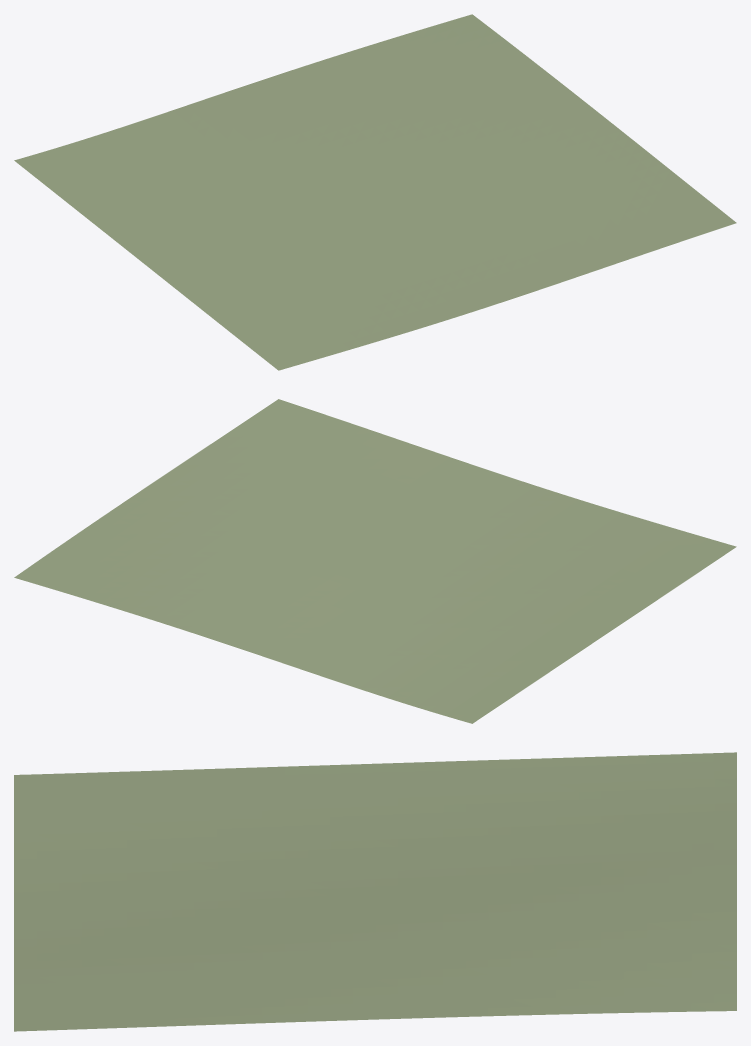
The model's file is desert-10-19.glb.
The picture shows the model from 3 angles, top to bottom: view 1: azimuth 30°, elevation 25°; view 2: azimuth 150°, elevation 25°; view 3: azimuth 270°, elevation 25°; orthographic projection. The views are drawn at different scales.
Parts seen in each view (by area): view 1: desert-10-19; view 2: desert-10-19; view 3: desert-10-19.
Part boxes in pixels (x1,y1,x2,y2): desert-10-19: [14, 14, 736, 370]; desert-10-19: [14, 399, 736, 723]; desert-10-19: [14, 752, 736, 1031].
Bounding box in the file's own units: 512 × 54.35 × 512.
